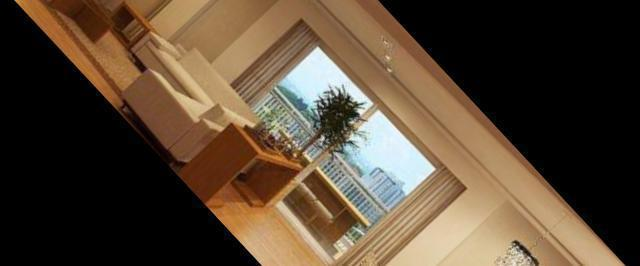Matera: (274, 79, 380, 183)
